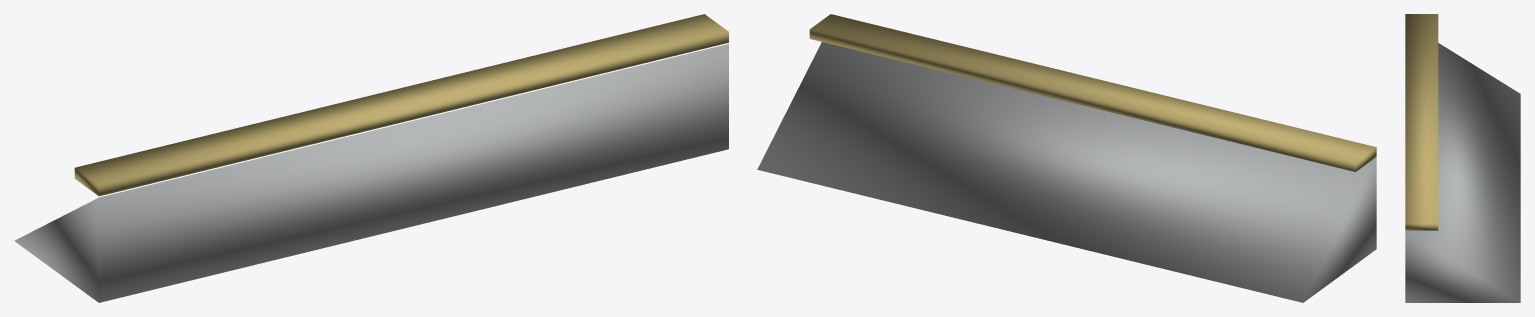
Rendered from curb_ramp_yellow_w150_h24_r35.glb.
3 views of the same model, side by side, from view 1: azimuth 30°, elevation 25°; view 2: azimuth 150°, elevation 25°; view 3: azimuth 270°, elevation 25° (orthographic). The views are drawn at different scales.
Parts seen in each view (by area): view 1: world; view 2: world; view 3: world.
Part boxes in pixels (x1,y1,x2,y2): world: (14, 14, 728, 302); world: (757, 14, 1376, 302); world: (1405, 14, 1520, 302).
Bounding box in the file's own units: 1.5 × 0.2675 × 0.35.
